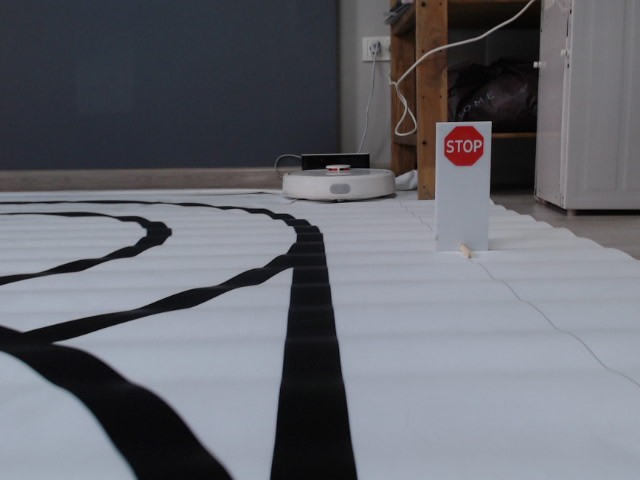Stop: (443, 123, 485, 168)
